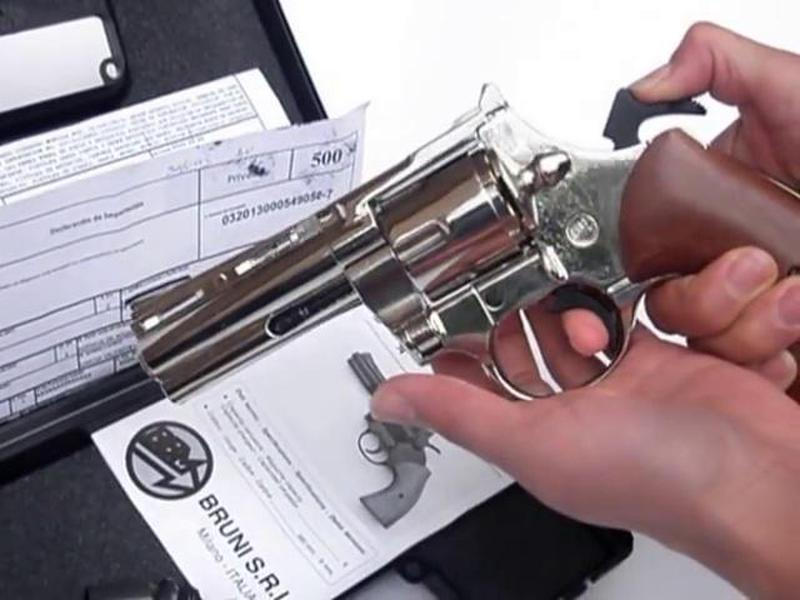Revolver: (123, 74, 706, 404)
